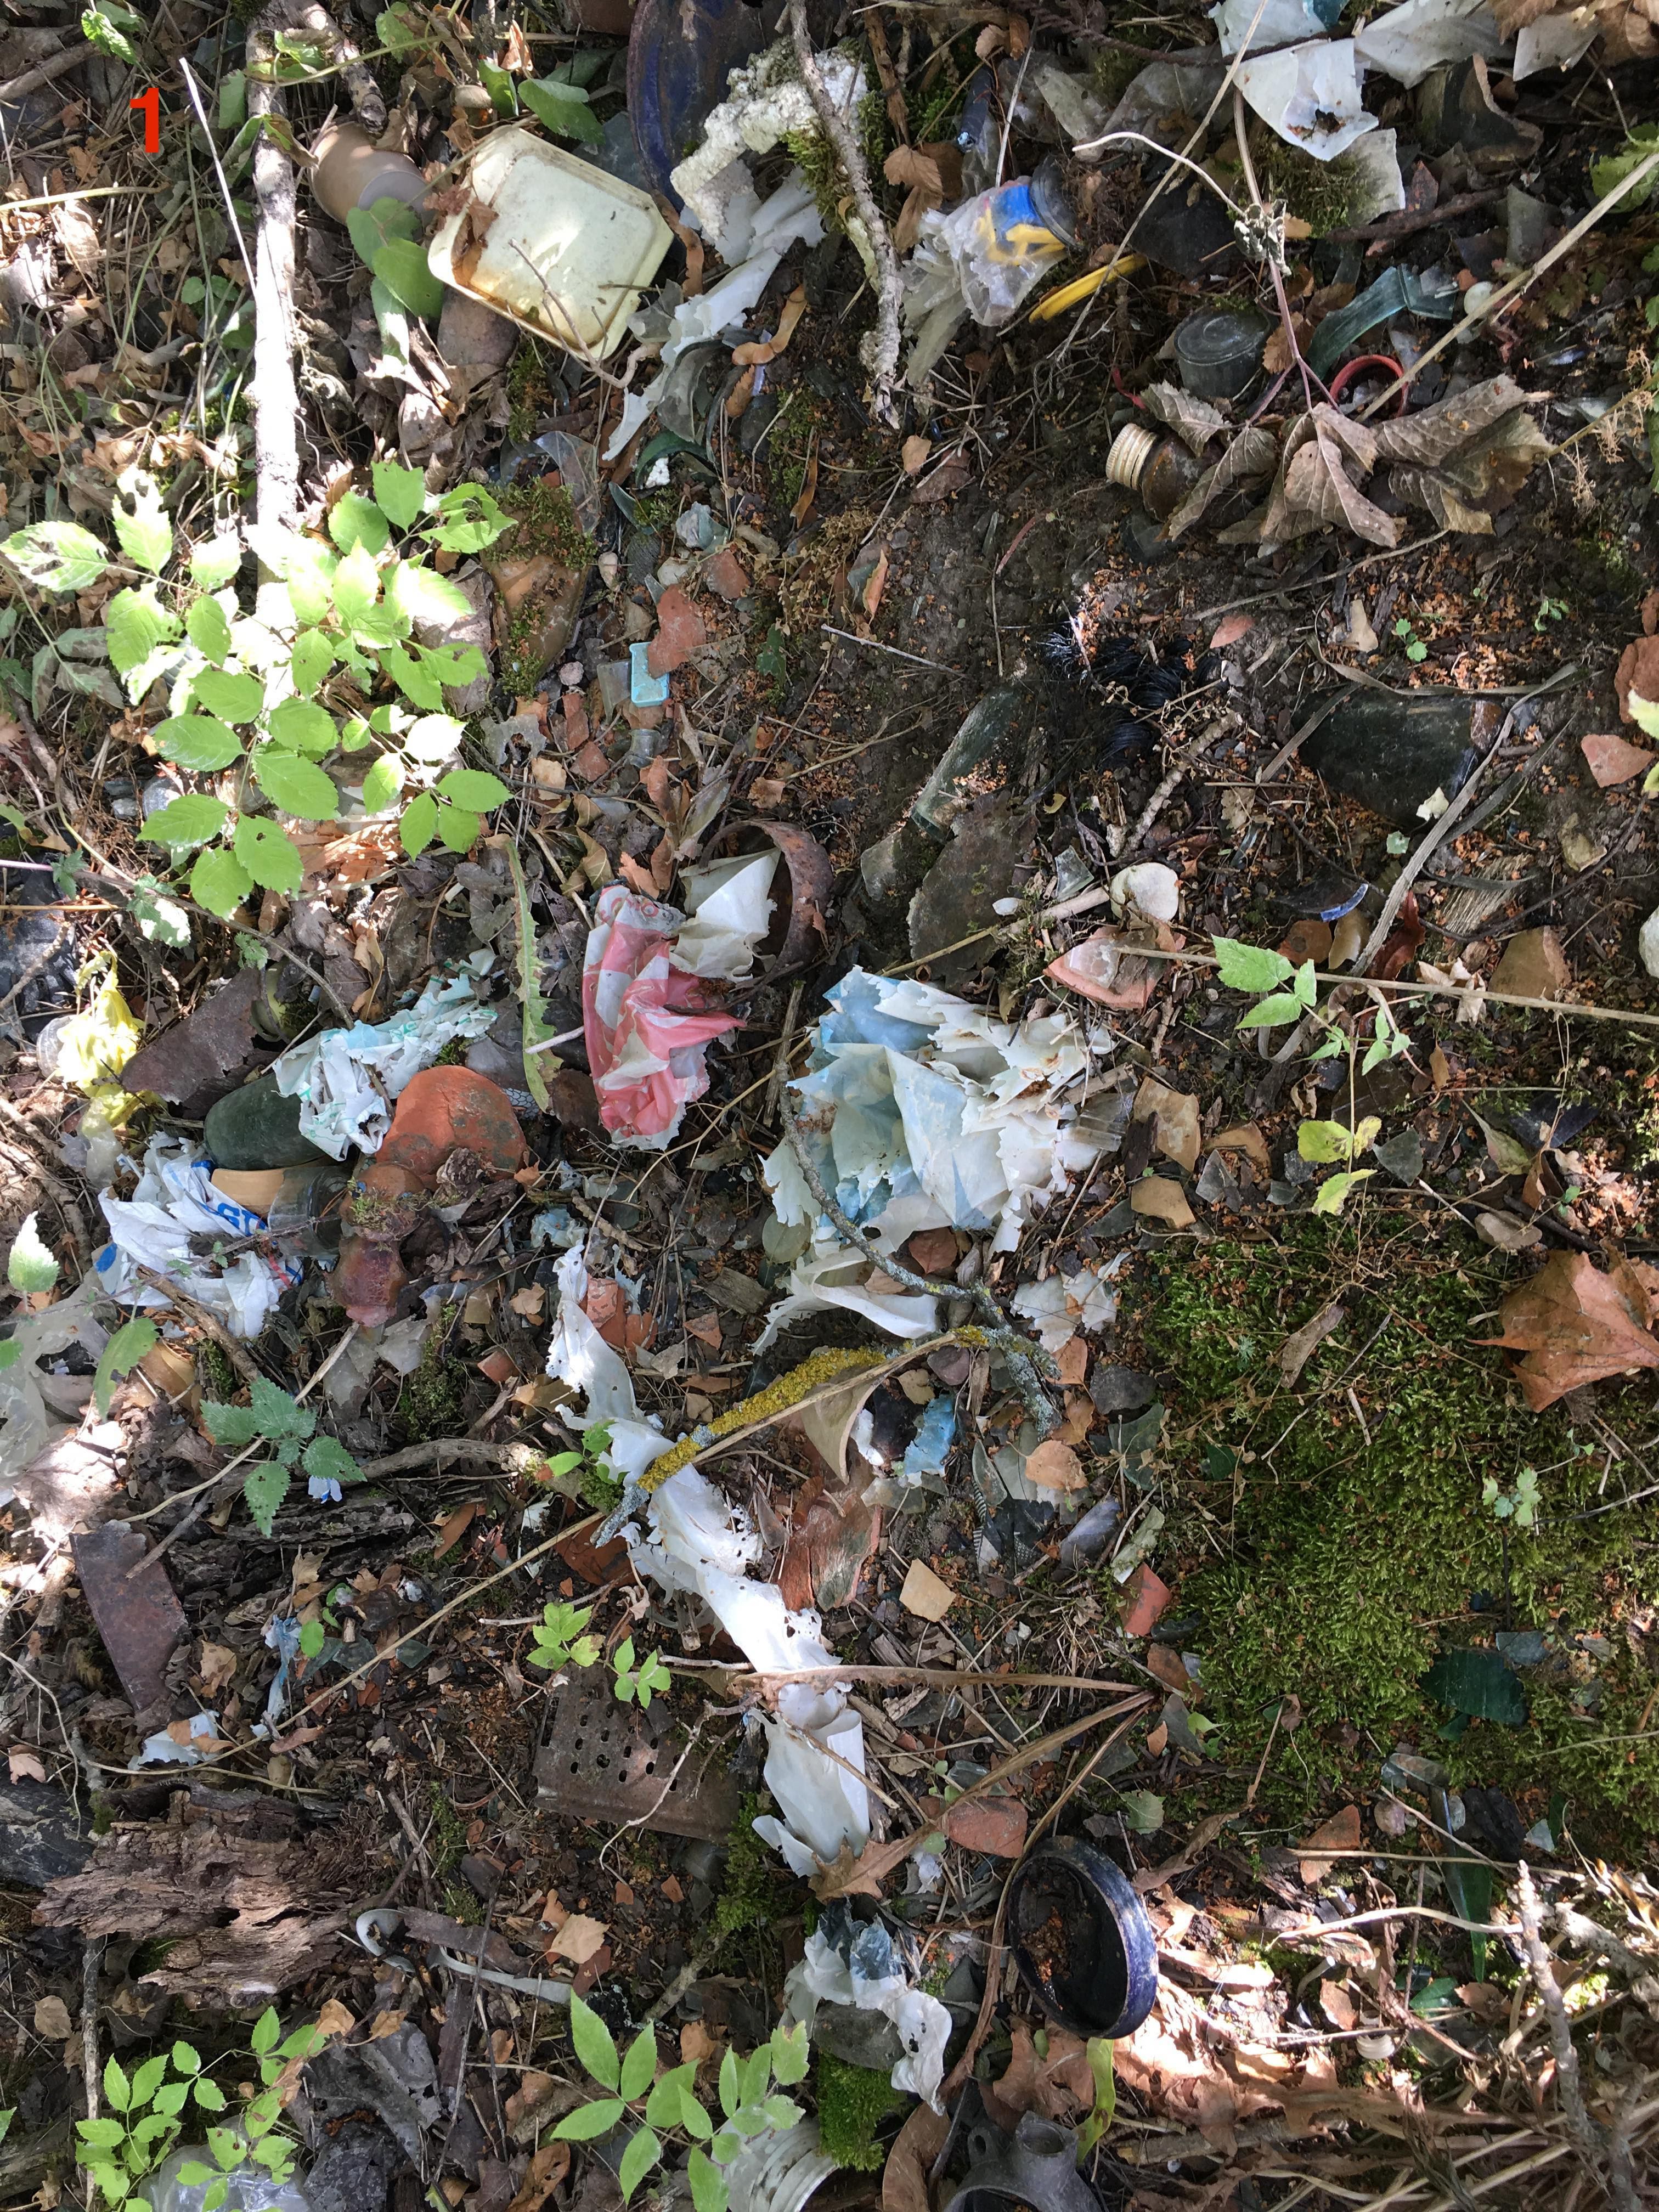trash: (21, 16, 1363, 2181)
